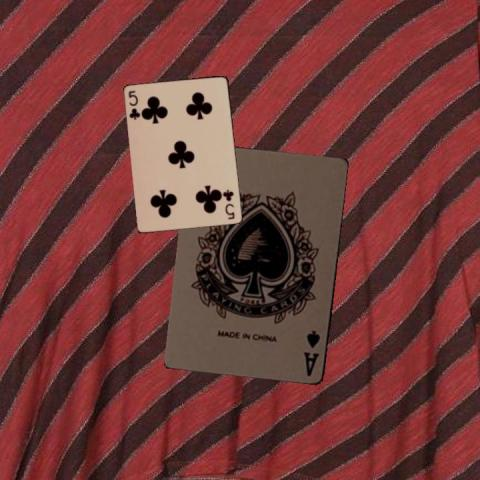5c: (126, 88, 142, 121), (221, 186, 236, 220)
As: (301, 327, 322, 379)
